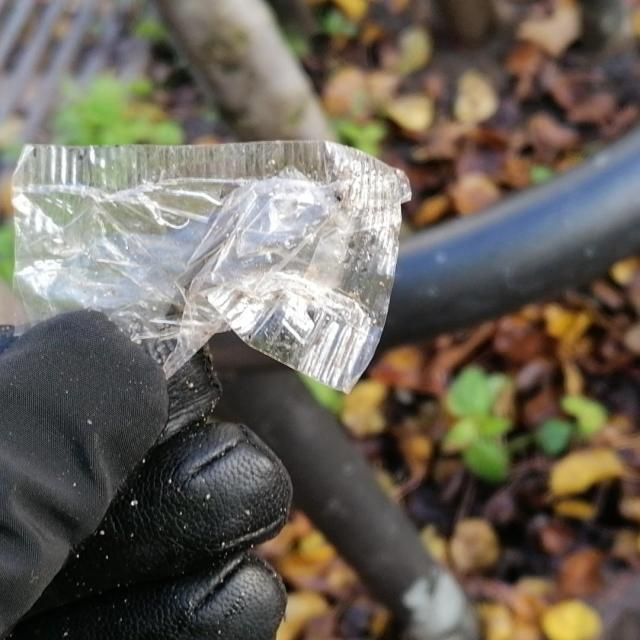Plastic: (7, 116, 413, 396)
